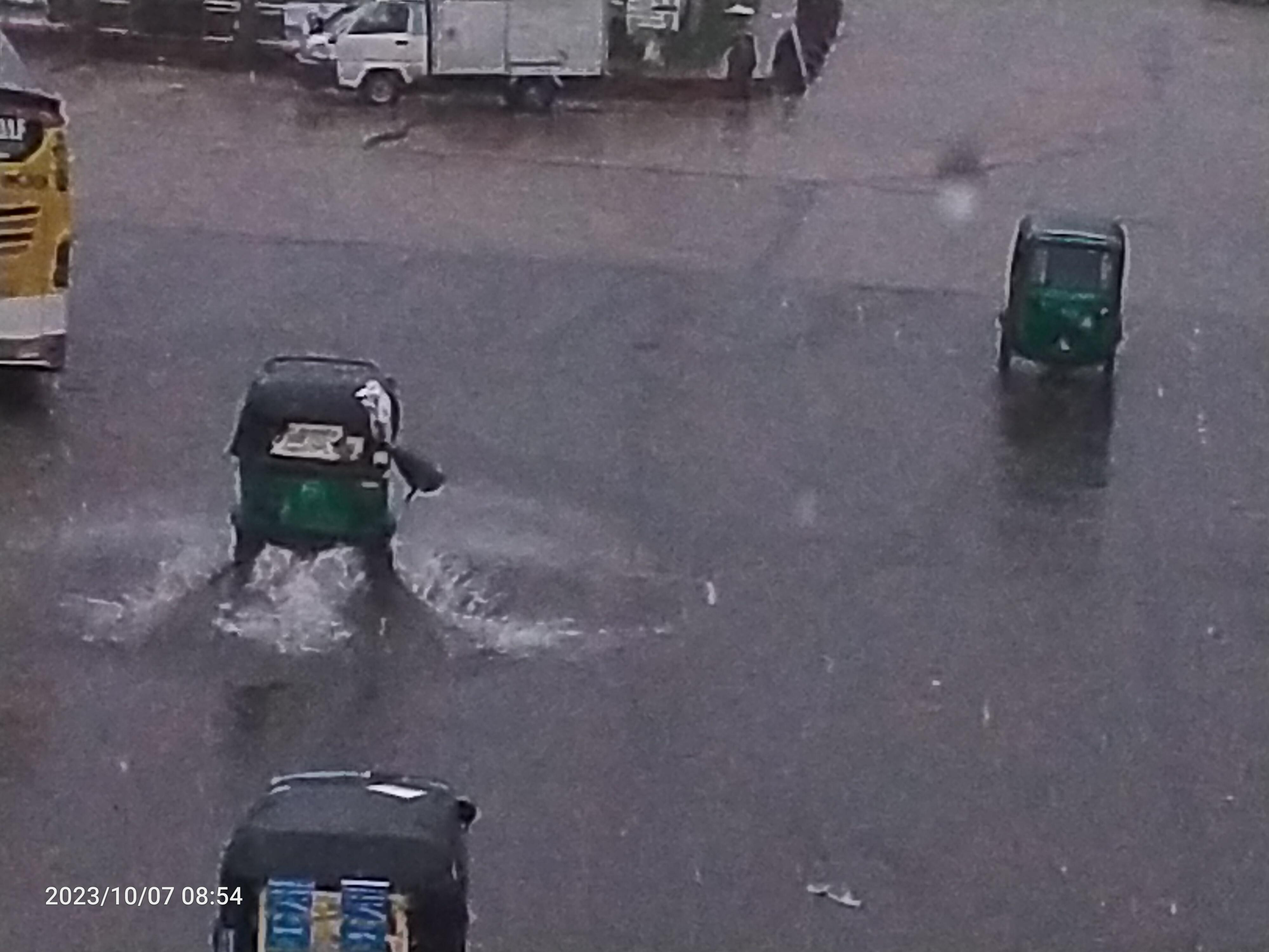Bus: (0, 12, 113, 414)
Car: (295, 0, 625, 158)
